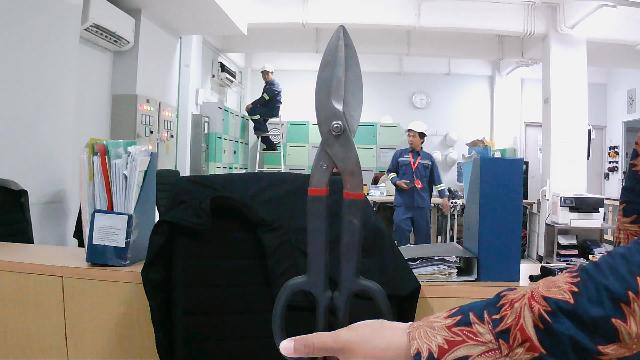gunting_plat: (267, 14, 402, 360)
